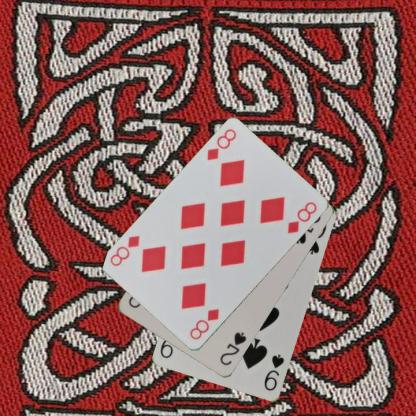2s: (217, 330, 248, 367)
8d: (186, 306, 220, 342), (204, 126, 237, 162)
9s: (261, 351, 286, 393)
